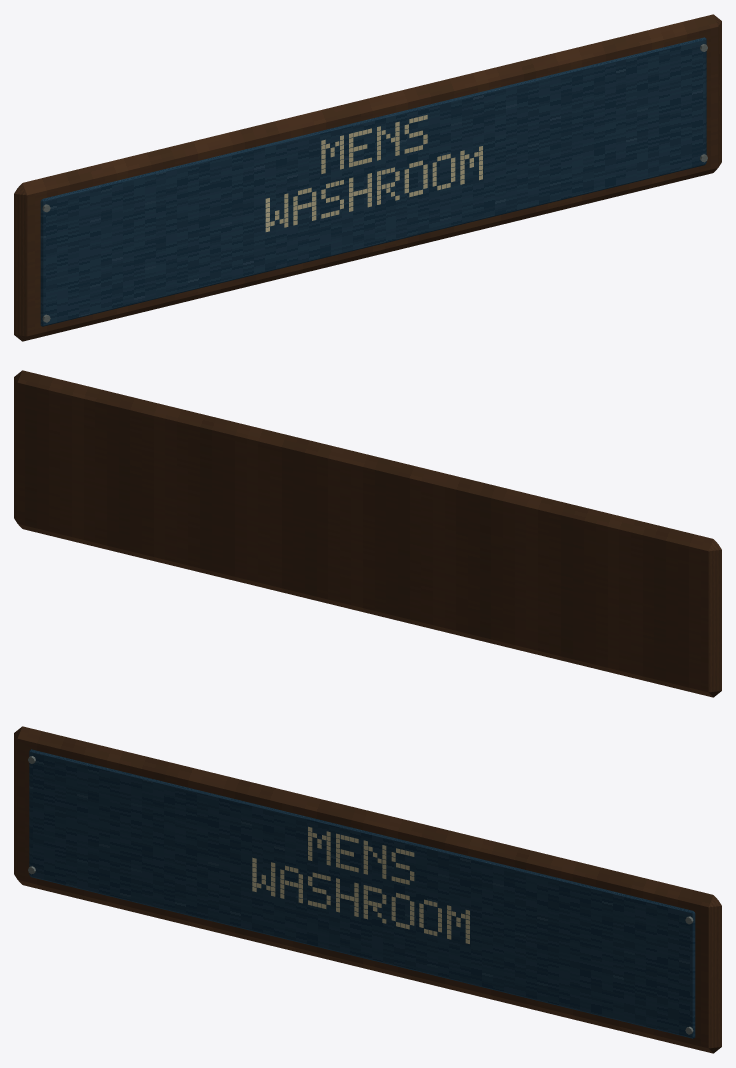
File: level_sign_mens.glb
3 renders of one model, top to bottom at view 1: azimuth 30°, elevation 25°; view 2: azimuth 150°, elevation 25°; view 3: azimuth 330°, elevation 25°, orthographic.
Visible parts, largest first — view 1: level_sign_mens; view 2: level_sign_mens; view 3: level_sign_mens.
Boxes of the visible parts, x1,y1,x2,y2 form: level_sign_mens: (14, 14, 721, 341); level_sign_mens: (14, 370, 721, 697); level_sign_mens: (14, 726, 721, 1053).
Size of the model in its own units: 1.68 by 0.36 by 0.053.
4 materials, 4 textured.
